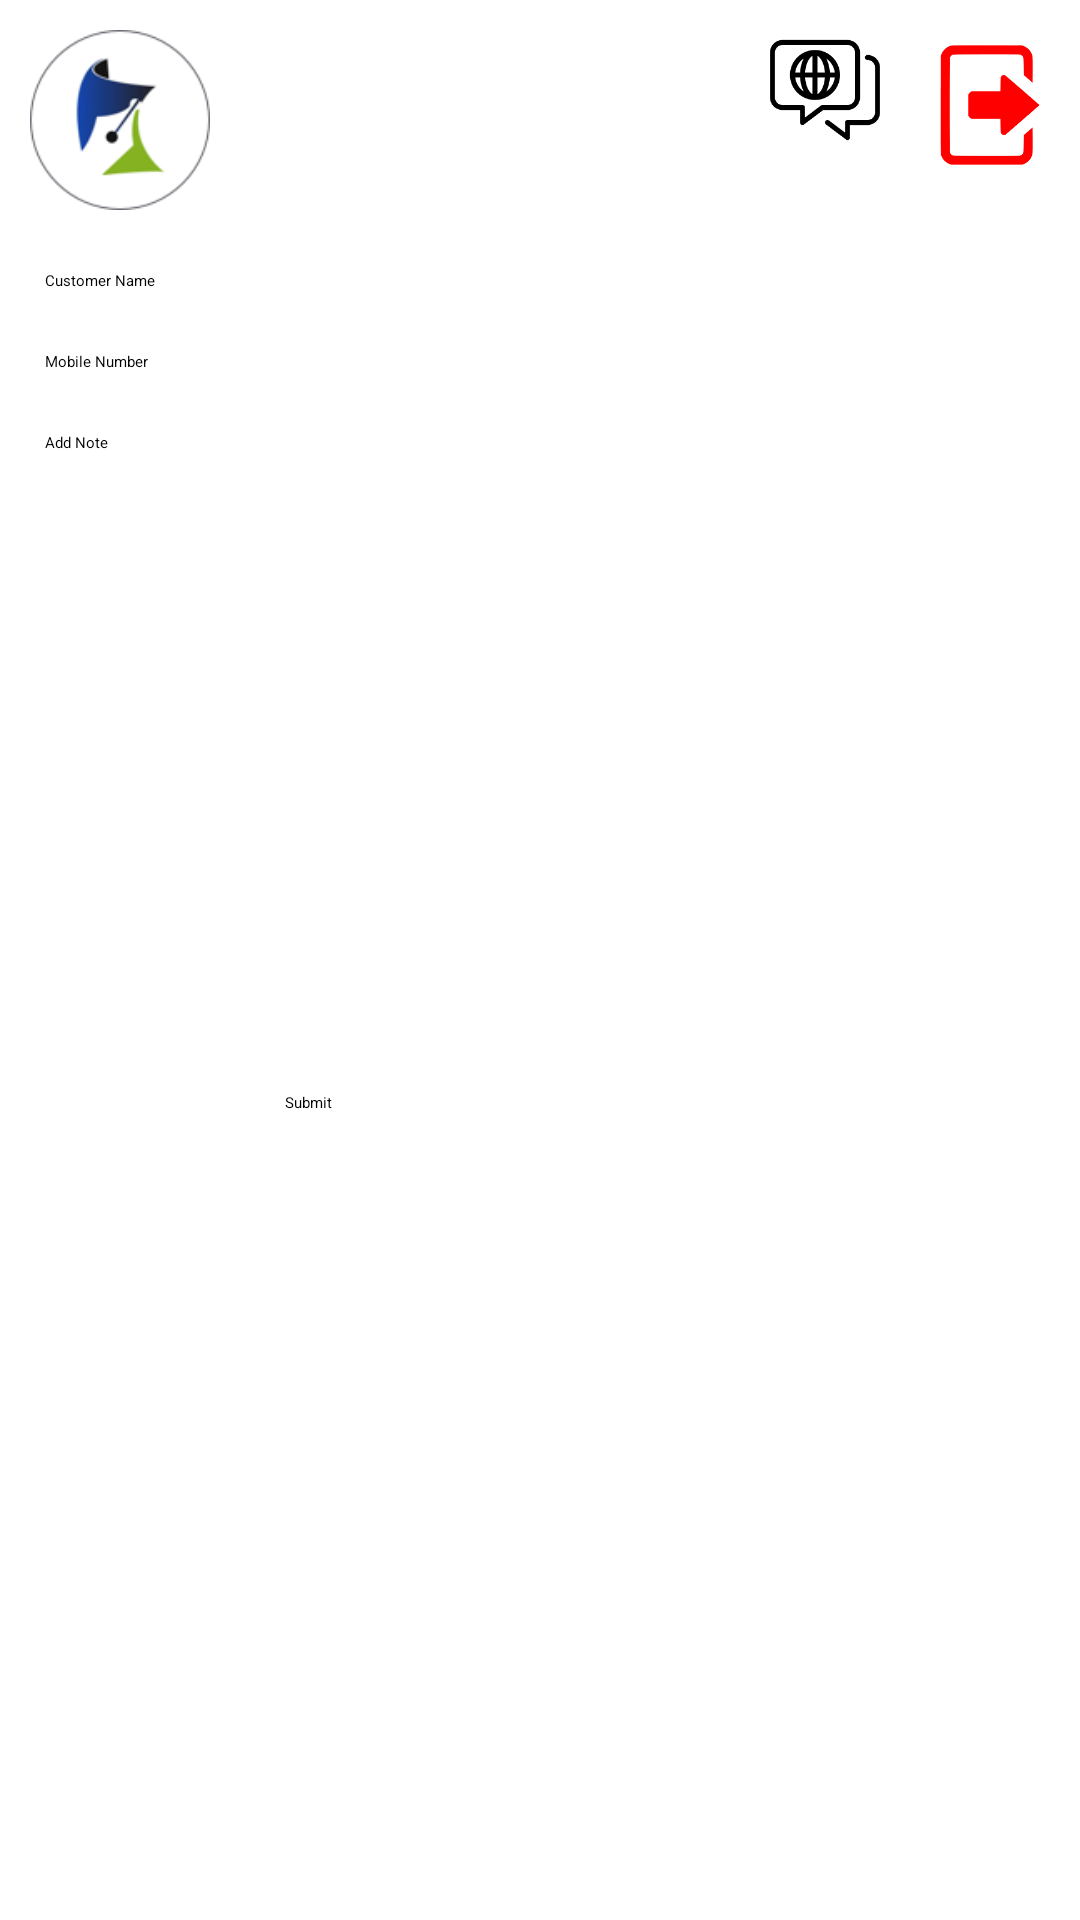

Locate icon controls on the screen. Image size 1080px x 1920px, boxes as (x1, y1, x2, y2).
language: (770, 39, 880, 141)
log out: (940, 45, 1039, 165)
